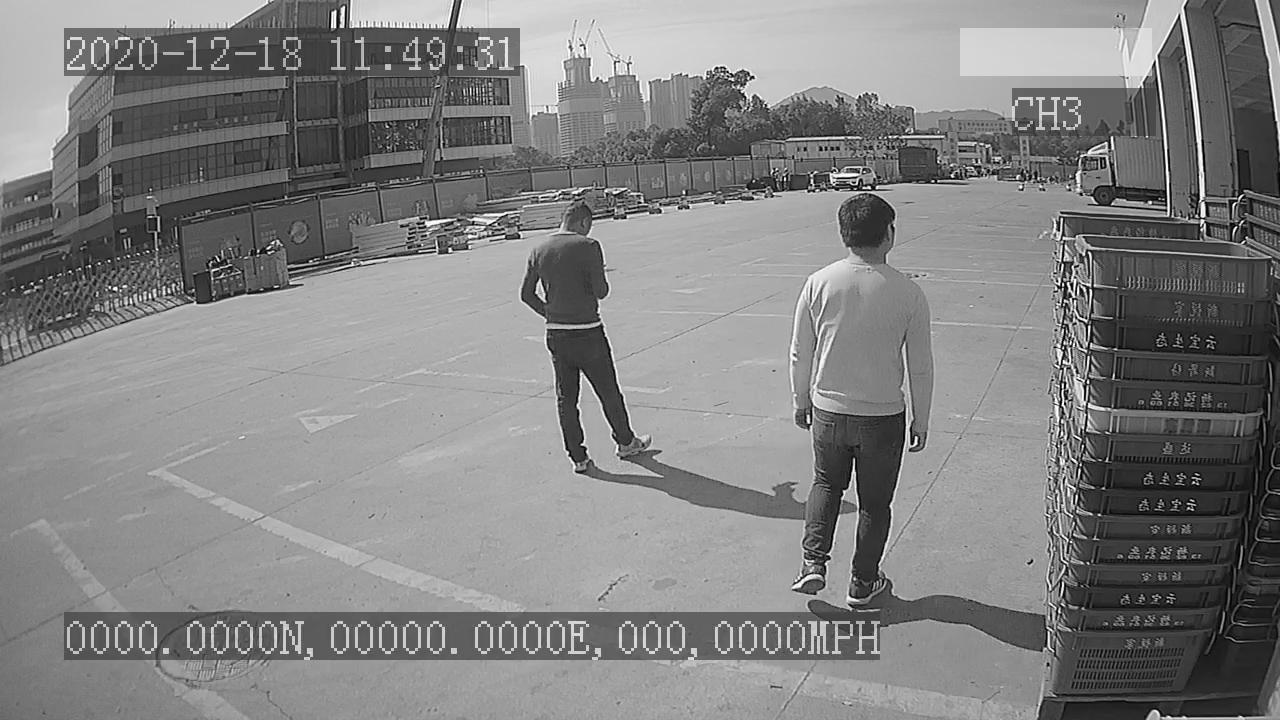person: (788, 190, 938, 610), (510, 199, 654, 479)
